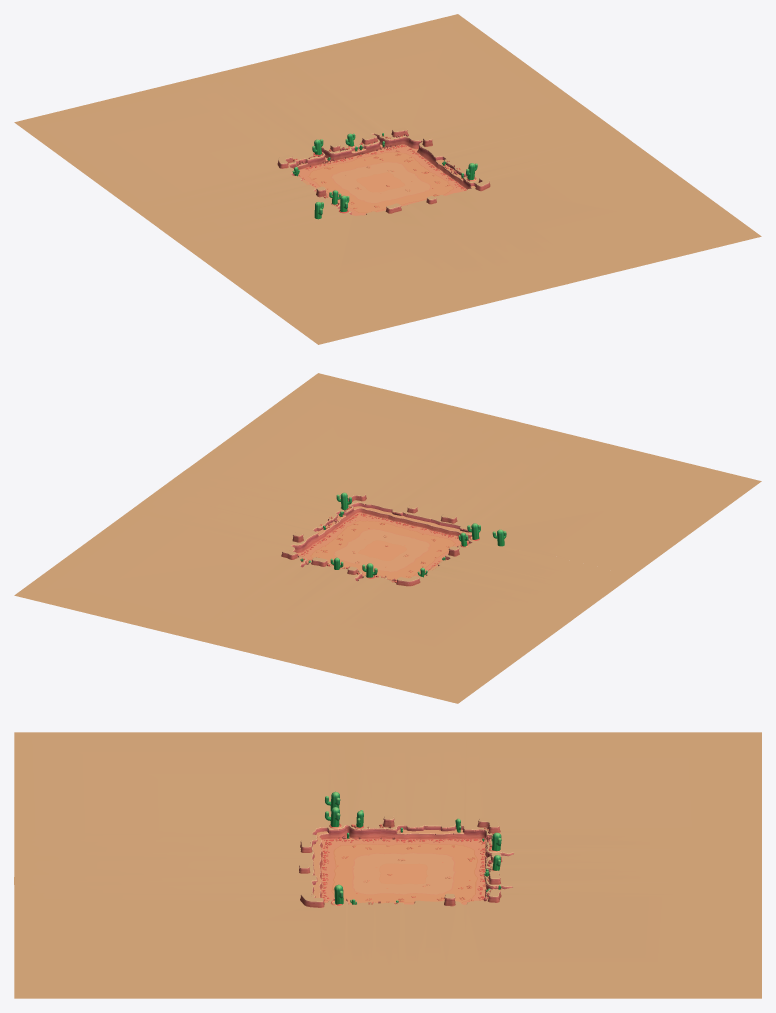
File: Environment FBX.fbx
3 renders of one model, top to bottom at view 1: azimuth 30°, elevation 25°; view 2: azimuth 150°, elevation 25°; view 3: azimuth 270°, elevation 25°, orthographic. The views are drawn at different scales.
Parts seen in each view (by area): view 1: Environment, Plane_028-mesh_cms, cactus; view 2: Environment, Plane_028-mesh_cms, cactus; view 3: Environment, Plane_028-mesh_cms, cactus.
Part boxes in pixels (x1=…): Environment: x1=14, y1=14, x2=761, y2=344; Plane_028-mesh_cms: x1=298, y1=144, x2=466, y2=215; cactus: x1=292, y1=133, x2=477, y2=211; Environment: x1=14, y1=373, x2=761, y2=703; Plane_028-mesh_cms: x1=297, y1=512, x2=468, y2=580; cactus: x1=300, y1=492, x2=480, y2=577; Environment: x1=14, y1=732, x2=761, y2=998; Plane_028-mesh_cms: x1=321, y1=836, x2=486, y2=904; cactus: x1=325, y1=807, x2=501, y2=904.
Bounding box in the file's own units: 223 × 11.51 × 265.
